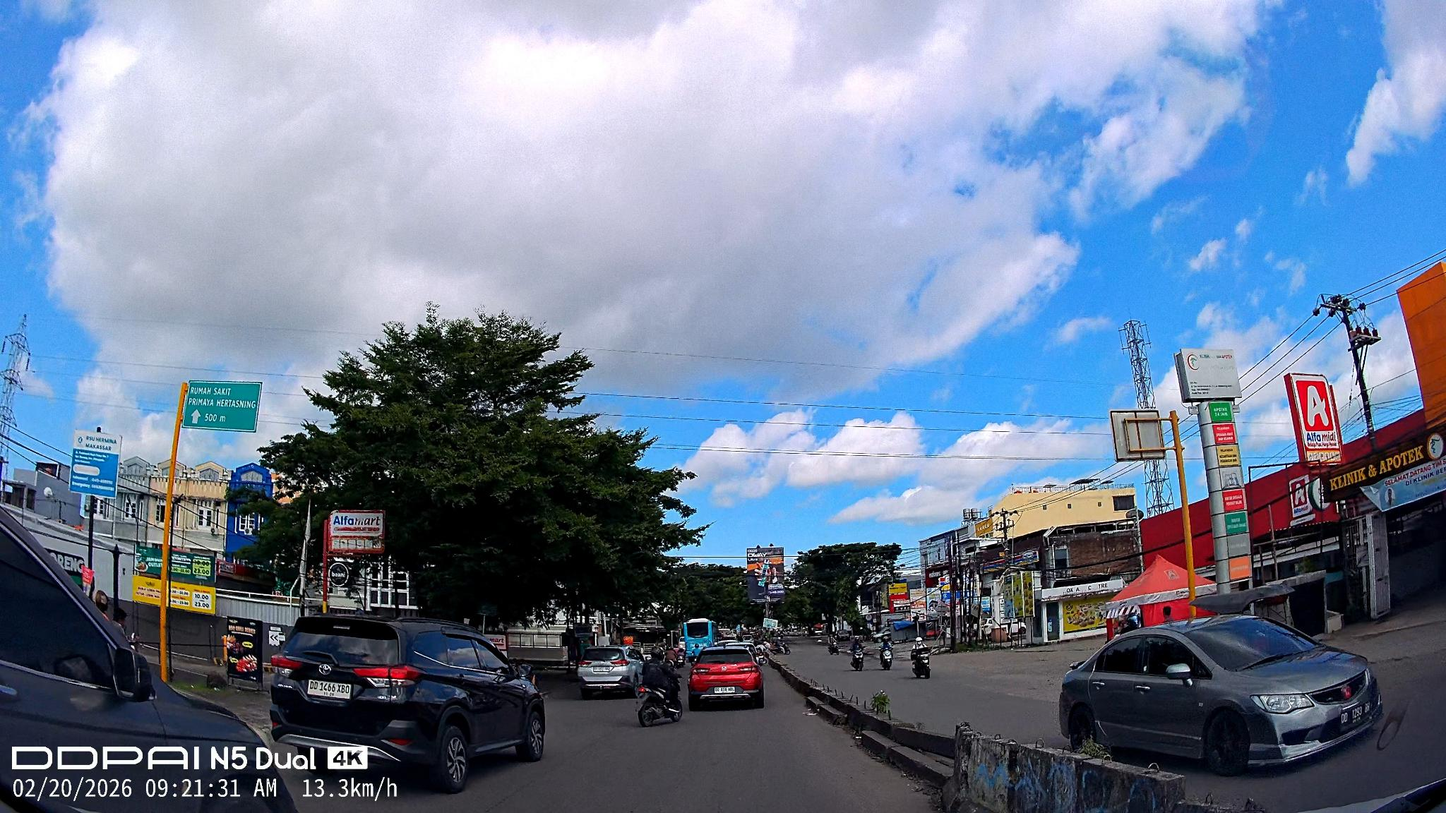rambu_teks: (181, 379, 263, 433)
